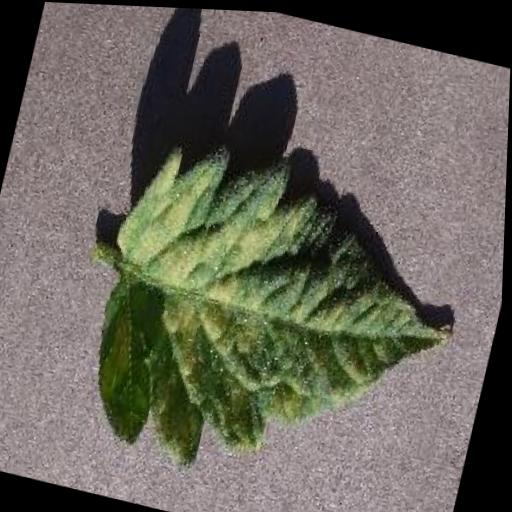Leaf Mold: (75, 128, 486, 512)
